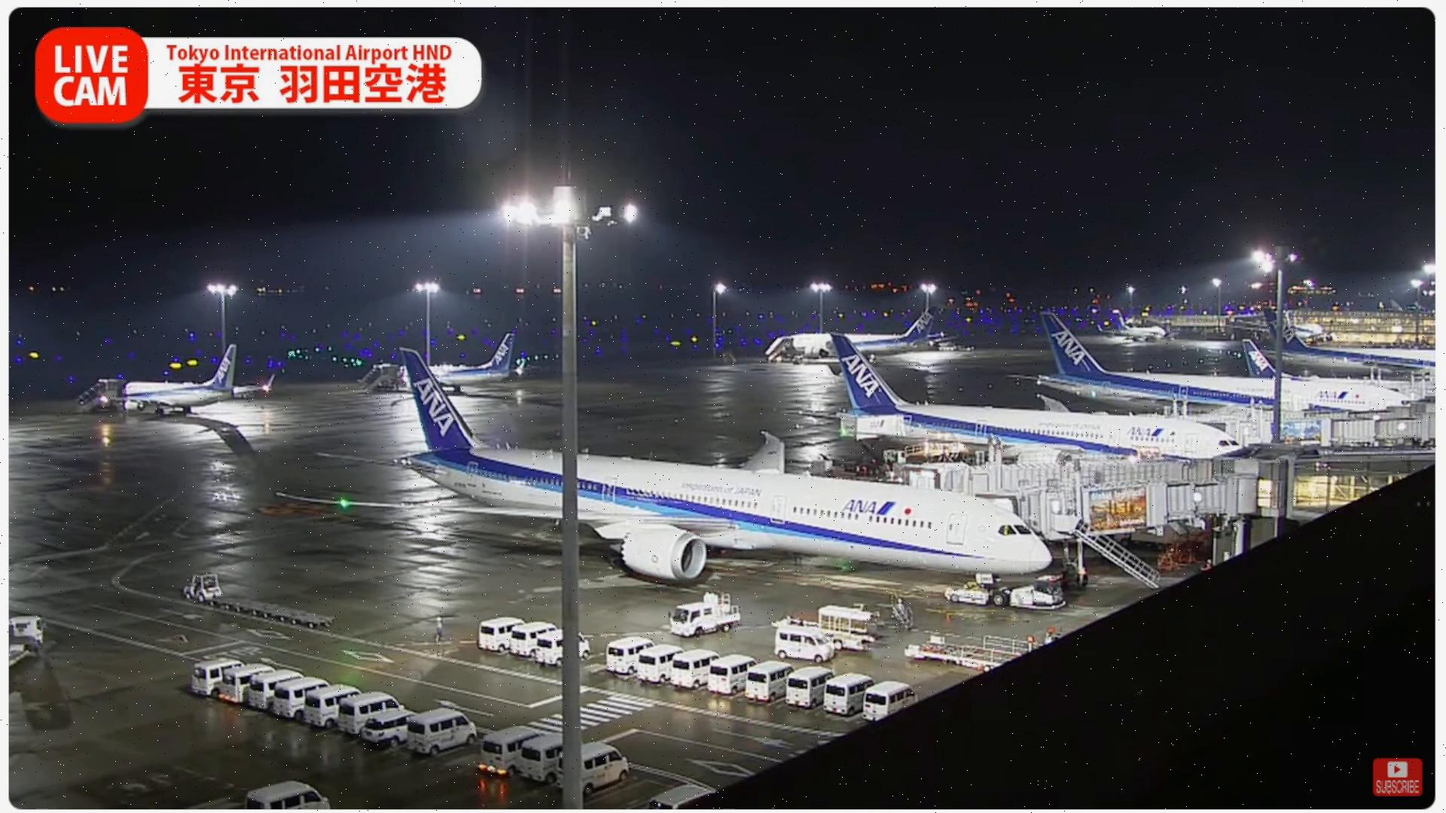Aerobridge: (901, 454, 1290, 516), (991, 469, 1279, 540)
Airplane: (270, 342, 1059, 586)
Dolly: (217, 589, 341, 641)
JCPL: (898, 634, 1015, 675), (950, 628, 1054, 653)
Skyloader: (764, 600, 888, 657)
Tow Tug: (946, 573, 1075, 615)
Tractor: (176, 570, 228, 611)
Window: (1291, 459, 1429, 518)
